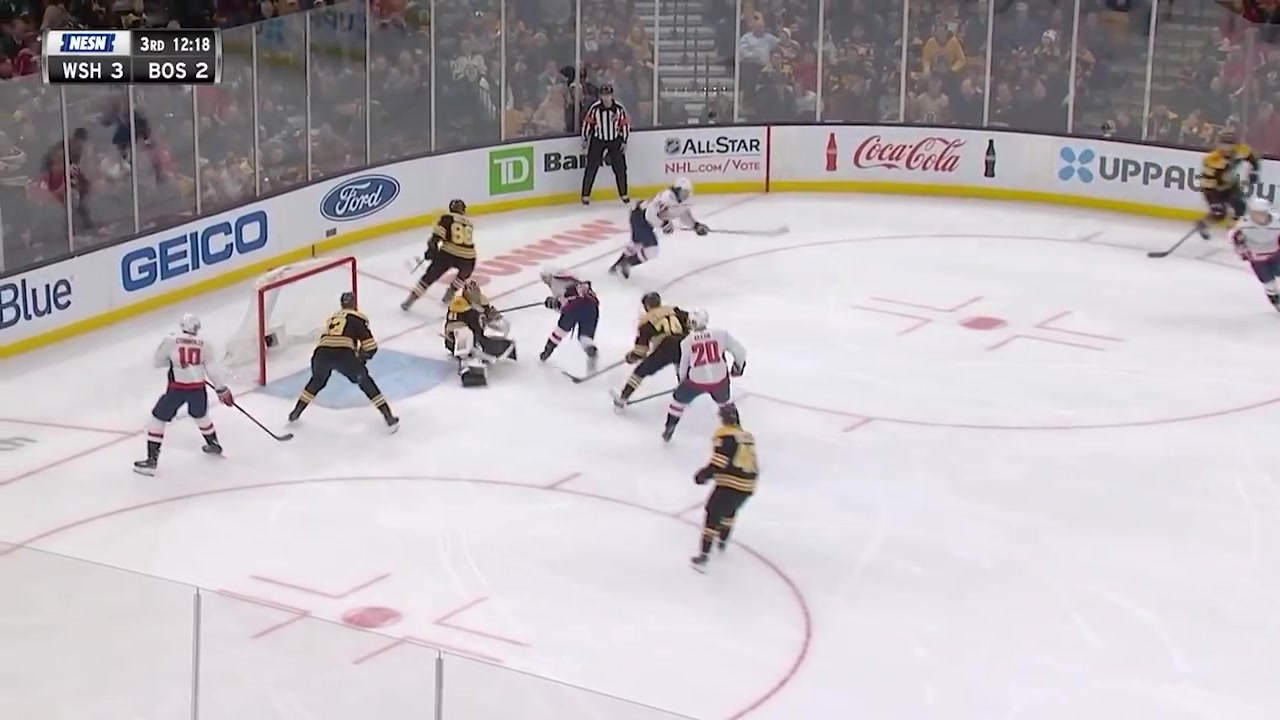geico: (124, 204, 275, 292)
